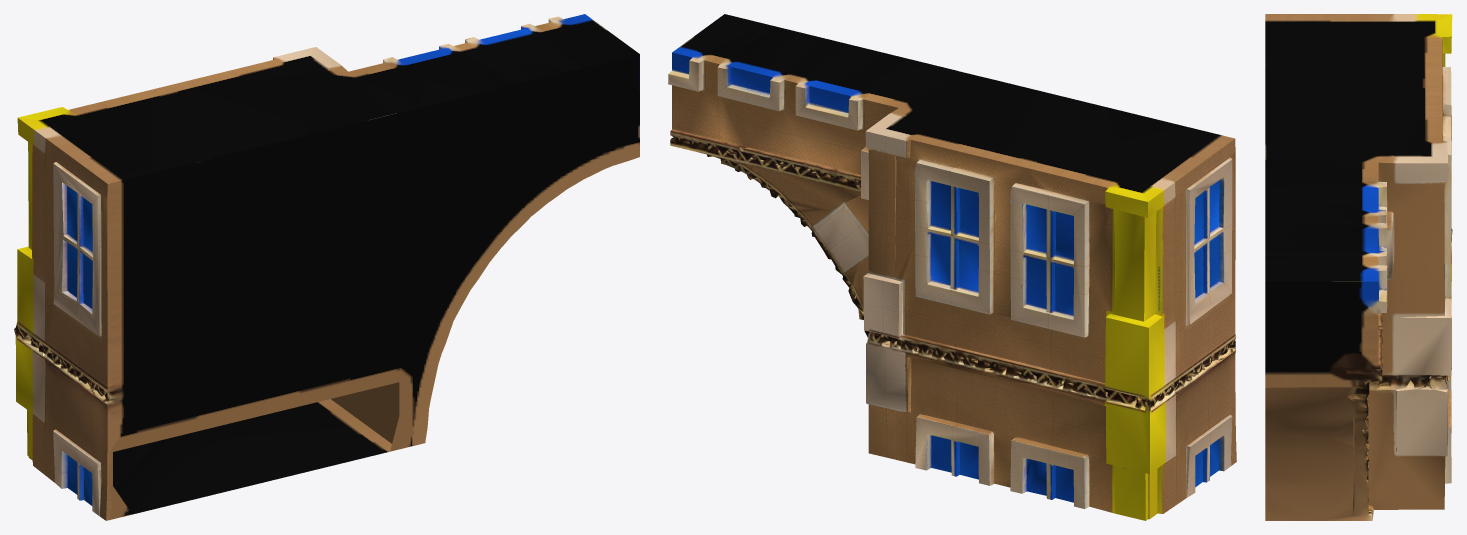
File: 7-upper-walls-back-left.fbx
3 renders of one model, left to right at view 1: azimuth 30°, elevation 25°; view 2: azimuth 150°, elevation 25°; view 3: azimuth 270°, elevation 25°, orthographic. The views are drawn at different scales.
Parts seen in each view (by area): view 1: upper-walls-back-left; view 2: upper-walls-back-left; view 3: upper-walls-back-left.
Boxes of the visible parts, left/top/right/bottom form: upper-walls-back-left: left=14, top=14, right=639, bottom=520; upper-walls-back-left: left=668, top=14, right=1236, bottom=520; upper-walls-back-left: left=1265, top=14, right=1452, bottom=520.
Size of the model in its own units: 10480 by 6289 by 3073.
1 material, 1 textured.
